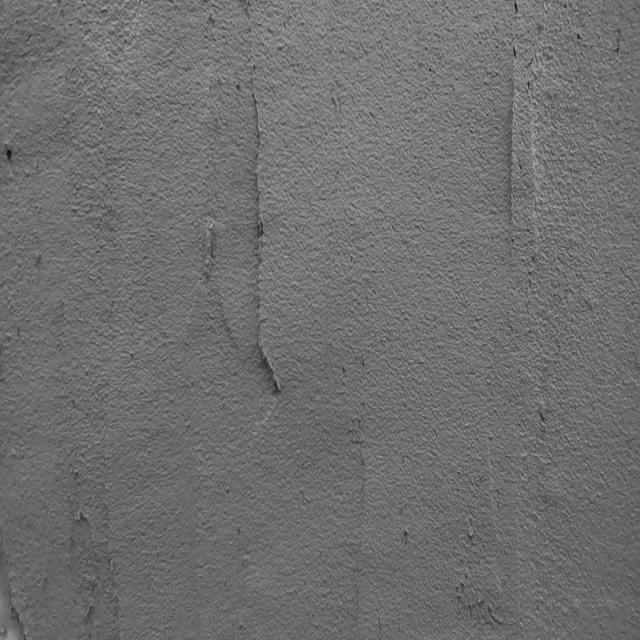trowels marks: (240, 51, 278, 423), (499, 29, 527, 244)
